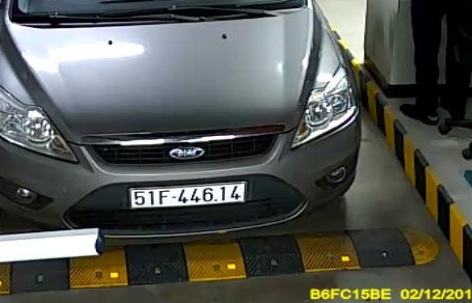plate: (127, 183, 251, 208)
